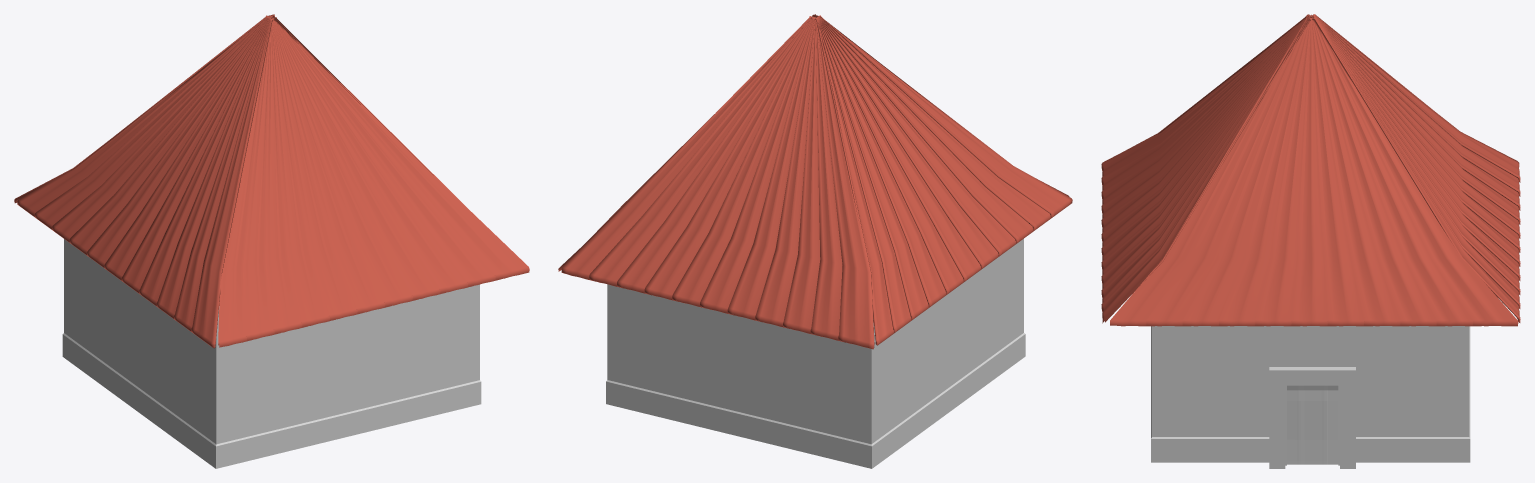
Rendered from TownHouse2.fbx.
3 renders of one model, left to right at view 1: azimuth 30°, elevation 25°; view 2: azimuth 150°, elevation 25°; view 3: azimuth 270°, elevation 25°, orthographic. The views are drawn at different scales.
Parts seen in each view (by area): view 1: Roof, Roof.003, Cube.003, Cube.001, Roof.001; view 2: Roof.001, Roof.003, Cube.003, Cube.001; view 3: Roof.002, Cube.001, Roof, Roof.001, Cube.003, Grid.005, Cube.040, Cube.039, Cube.041, Roof.003.
Part boxes in pixels (x1,y1,x2,y2): Roof: (218,17,529,347); Roof.003: (17,15,272,348); Cube.003: (62,290,481,468); Cube.001: (64,239,479,402); Roof.001: (14,14,274,203); Roof.001: (561,16,874,349); Roof.003: (814,15,1072,345); Cube.003: (606,291,1025,468); Cube.001: (607,239,1023,401); Roof.002: (1110,17,1518,326); Cube.001: (1152,326,1469,393); Roof: (1101,14,1310,323); Roof.001: (1312,14,1520,322); Cube.003: (1151,326,1470,462); Grid.005: (1285,384,1339,465); Cube.040: (1269,367,1285,468); Cube.039: (1340,367,1355,468); Cube.041: (1277,367,1347,384); Roof.003: (1133,14,1443,146).
Bounding box in the file's own units: 2402 × 2664 × 2642.
